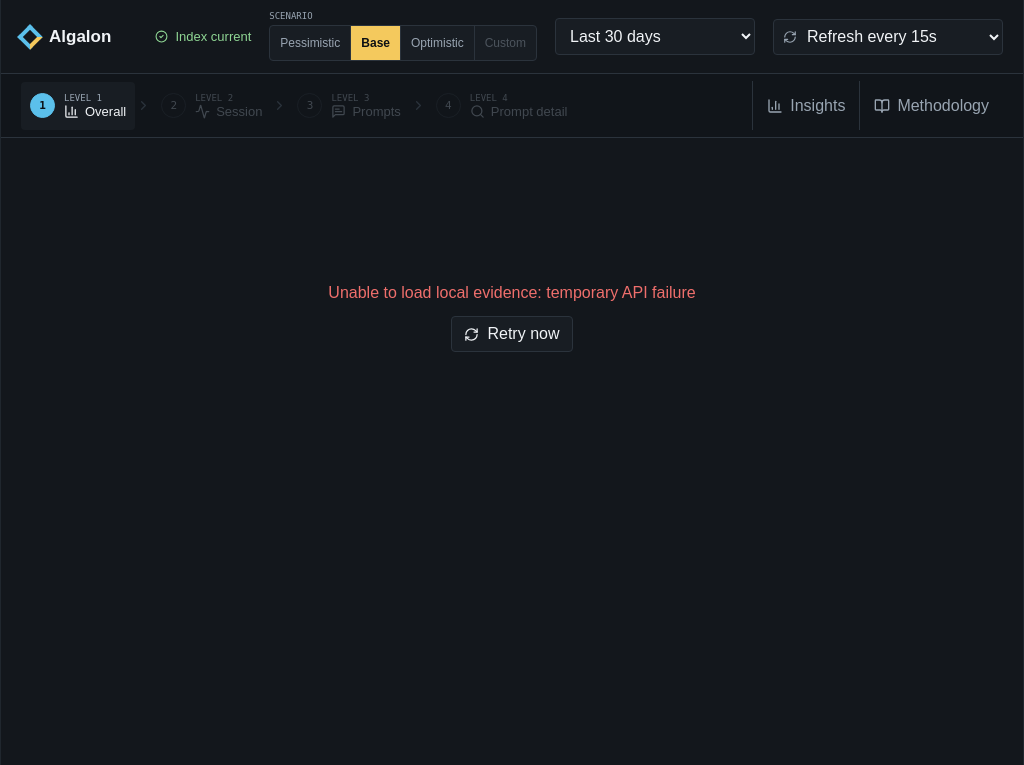
it: overall workflow › shows an API error and retries successfully
Expected: the message "Unable to load local evidence: temporary API failure Retry now" is shown, [328, 284, 696, 352]
Click the button "Retry now": (512, 334) [452, 316, 572, 352]
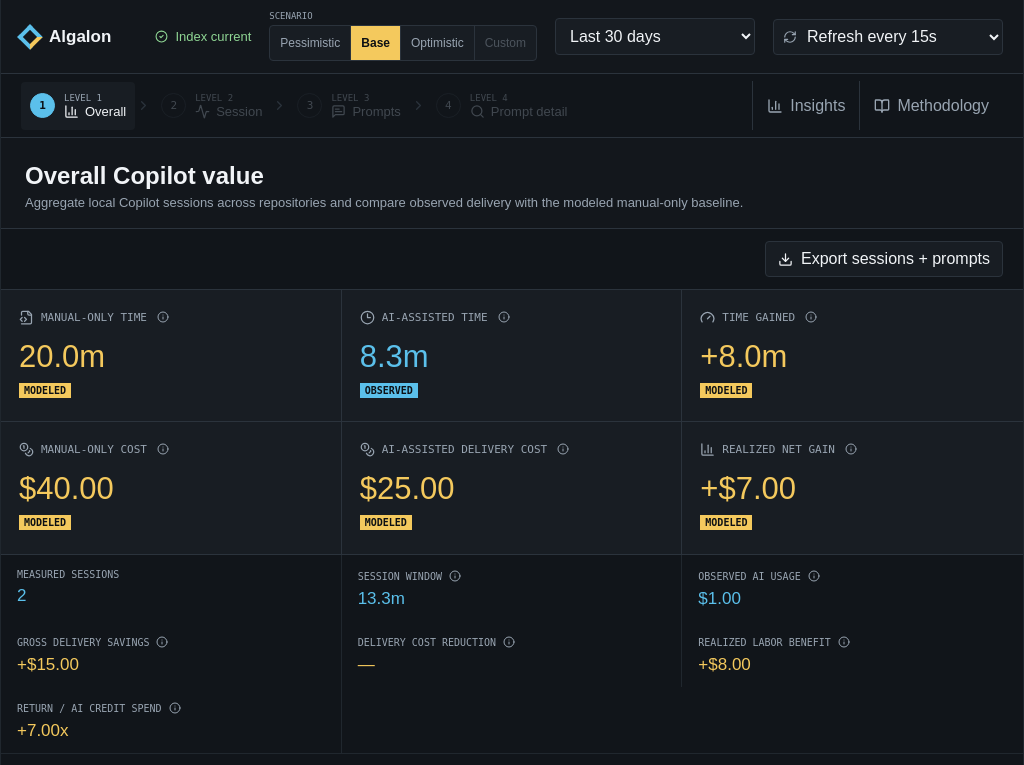
Result: the heading "Overall Copilot value" is shown at [25, 162, 264, 189]
